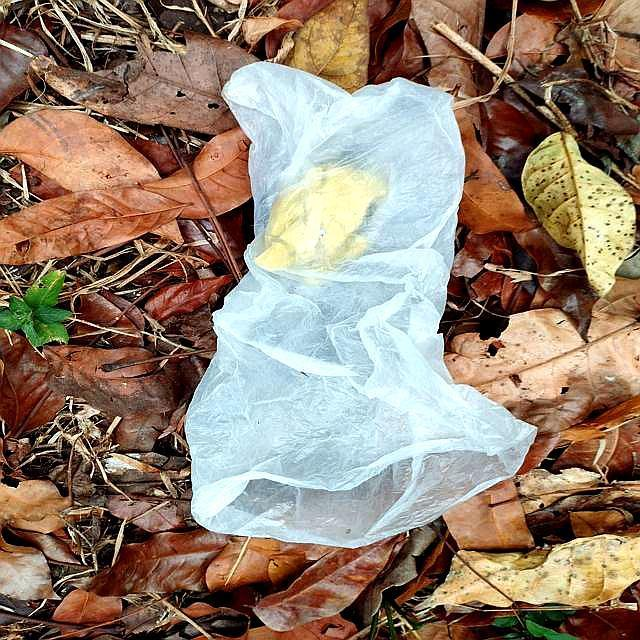Non-biodegradable: (182, 59, 538, 549)
